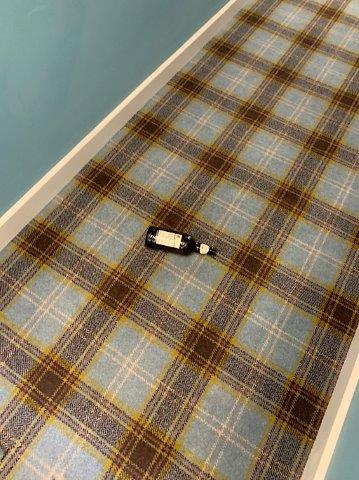botolkaca: (146, 226, 216, 255)
